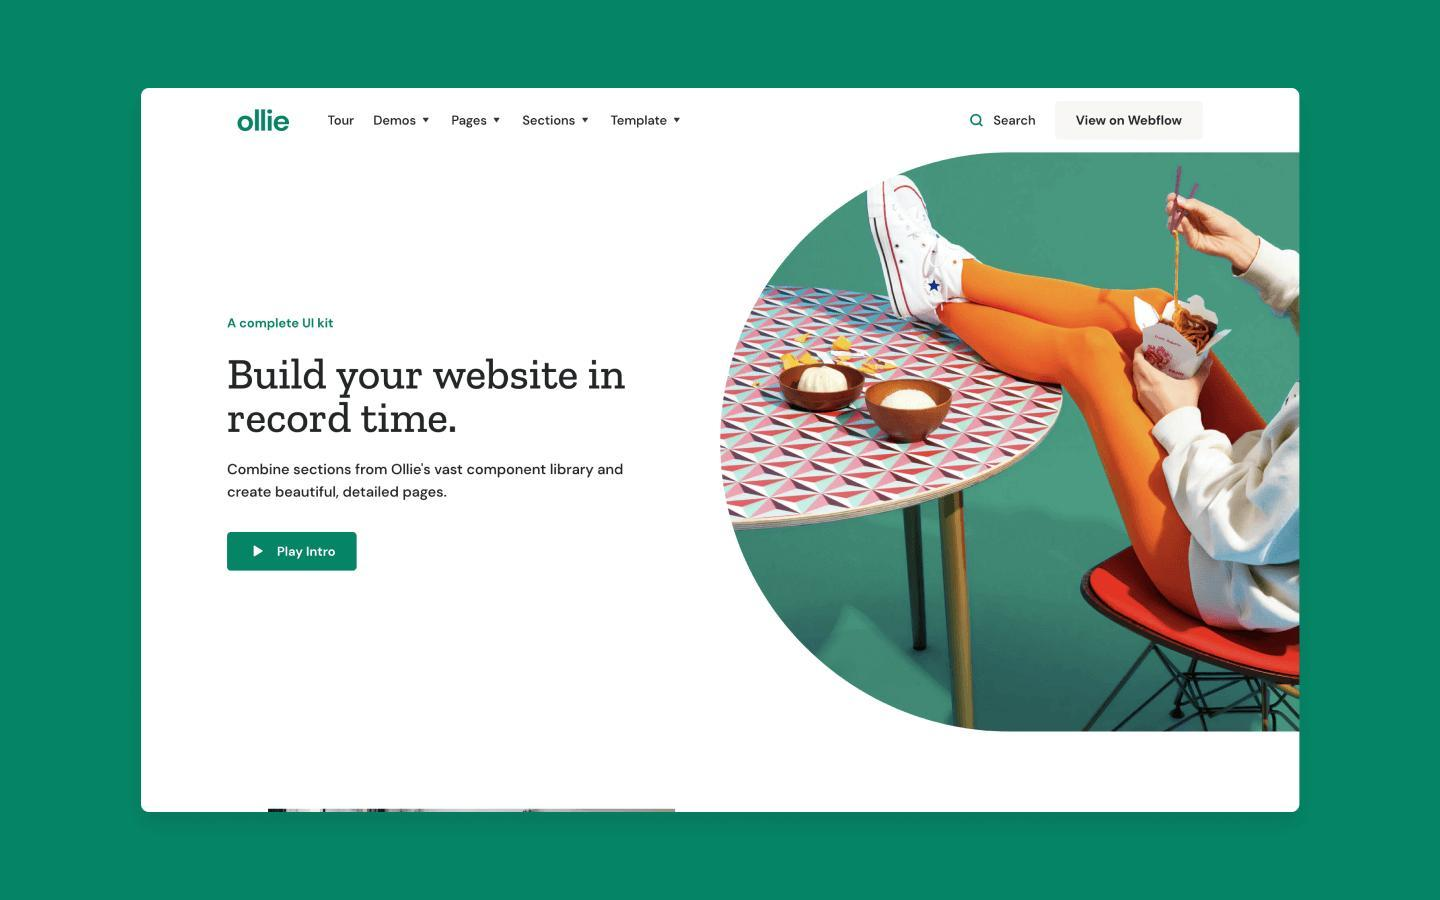button: (1053, 102, 1206, 141), (229, 533, 358, 572)
icon: (970, 110, 986, 130)
label: (221, 361, 638, 441), (224, 459, 636, 508), (226, 311, 342, 340), (611, 113, 670, 129), (523, 114, 578, 129), (371, 115, 420, 129), (451, 114, 490, 131), (323, 112, 361, 128), (992, 116, 1037, 126)
